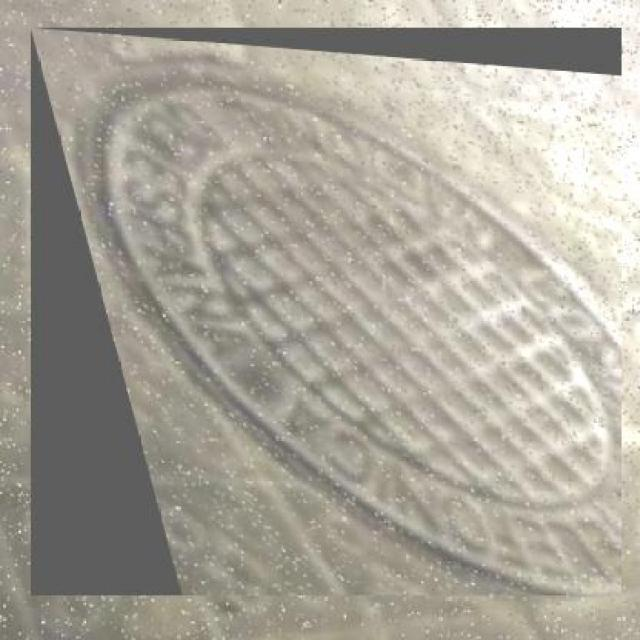Manhole: (31, 28, 622, 596)
